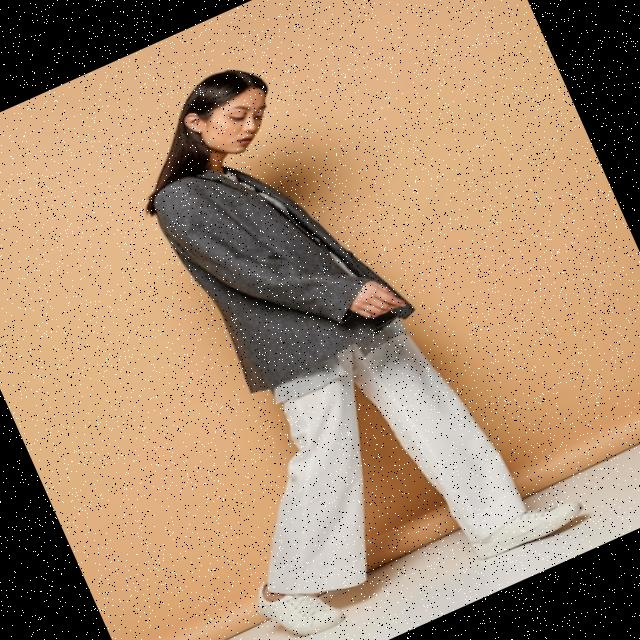Person: (51, 11, 583, 640)
